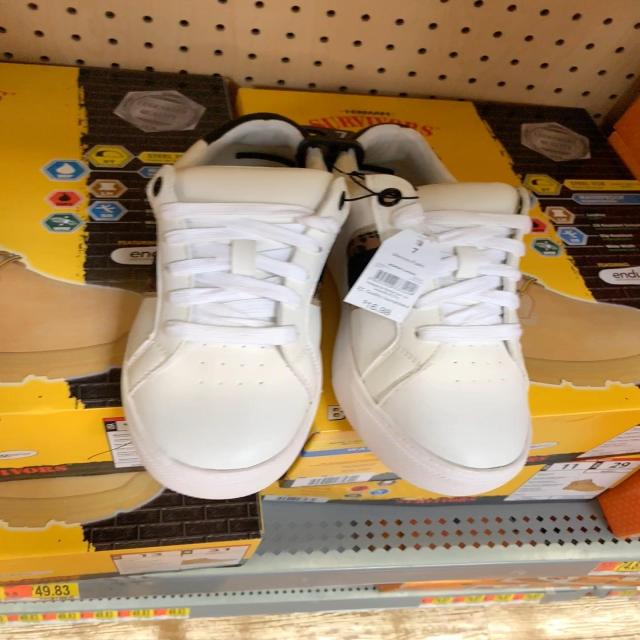shoe: (120, 117, 405, 502), (333, 181, 533, 501)
